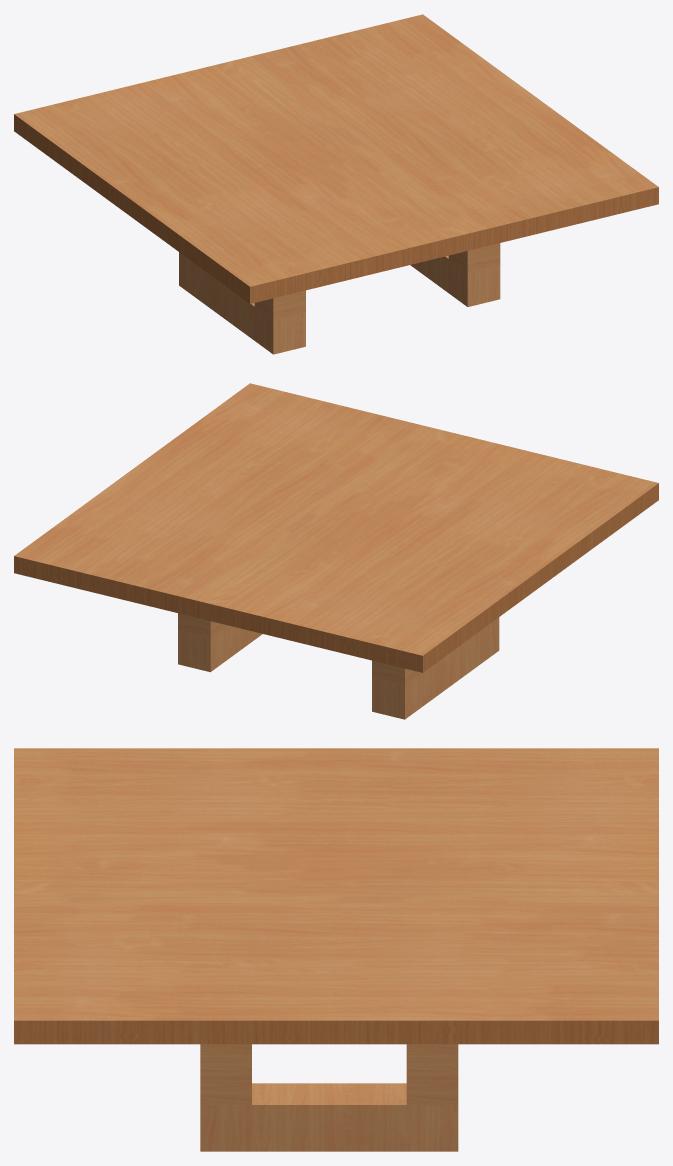
File: conference table1_B.FBX
The picture shows the model from 3 angles, top to bottom: view 1: azimuth 30°, elevation 25°; view 2: azimuth 150°, elevation 25°; view 3: azimuth 270°, elevation 25°; orthographic projection. The views are drawn at different scales.
Parts seen in each view (by area): view 1: conference table1_B; view 2: conference table1_B; view 3: conference table1_B.
Part boxes in pixels (x1,y1,x2,y2): conference table1_B: (14, 14, 658, 354); conference table1_B: (14, 383, 658, 719); conference table1_B: (14, 748, 658, 1151).
Size of the model in its own units: 25 by 8.18 by 25.
